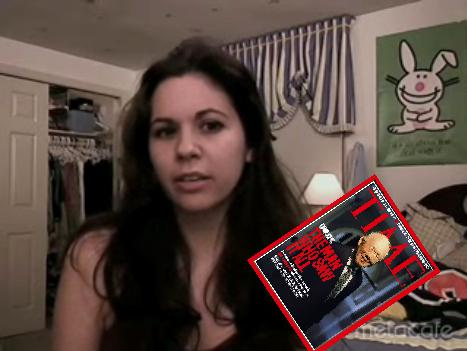times: (245, 172, 445, 351)
